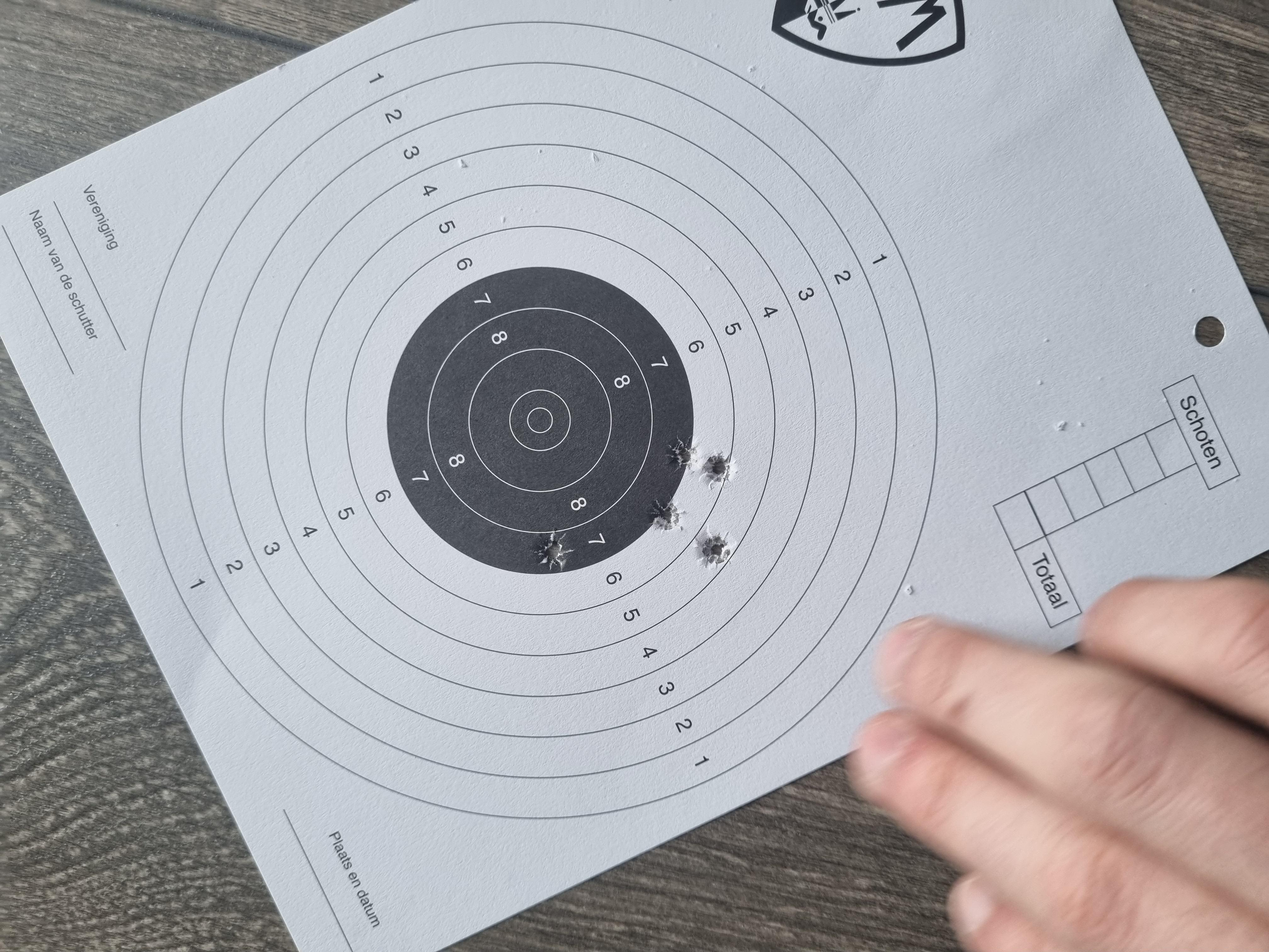hole: (507, 402, 562, 429), (615, 525, 666, 553), (637, 500, 688, 525), (510, 526, 561, 548), (561, 488, 602, 515)
